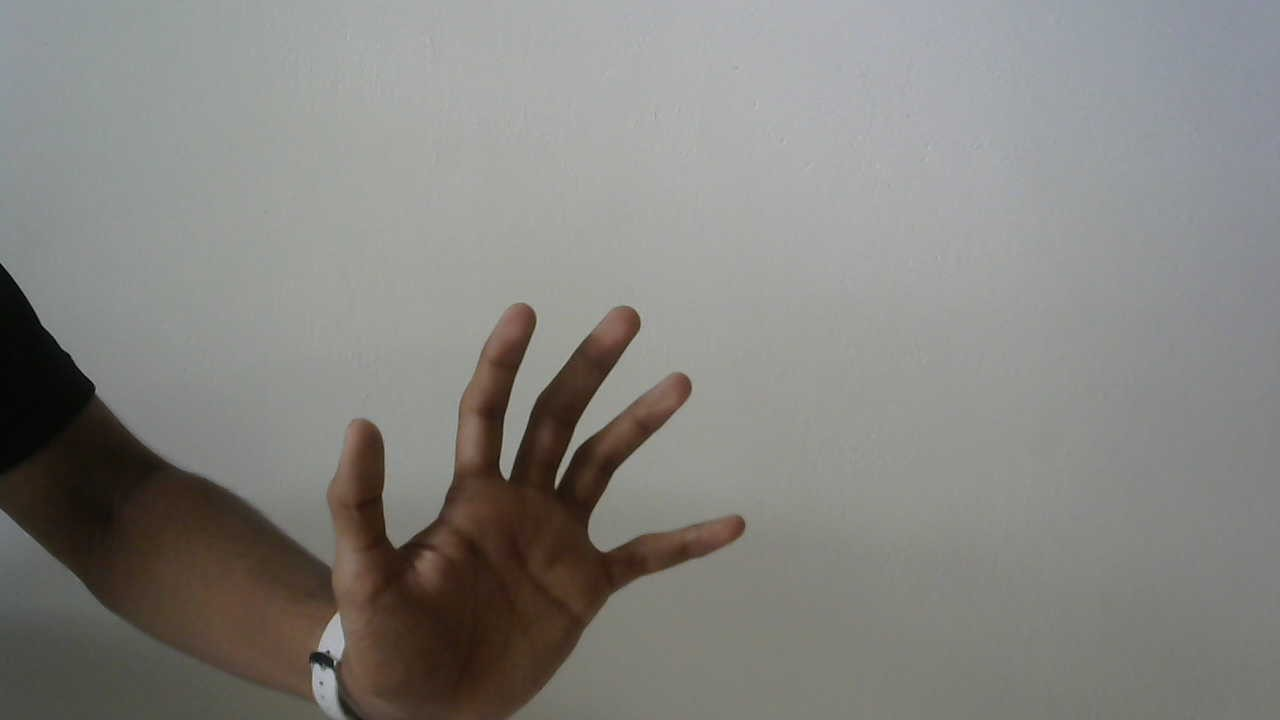hello: (316, 297, 751, 720)
